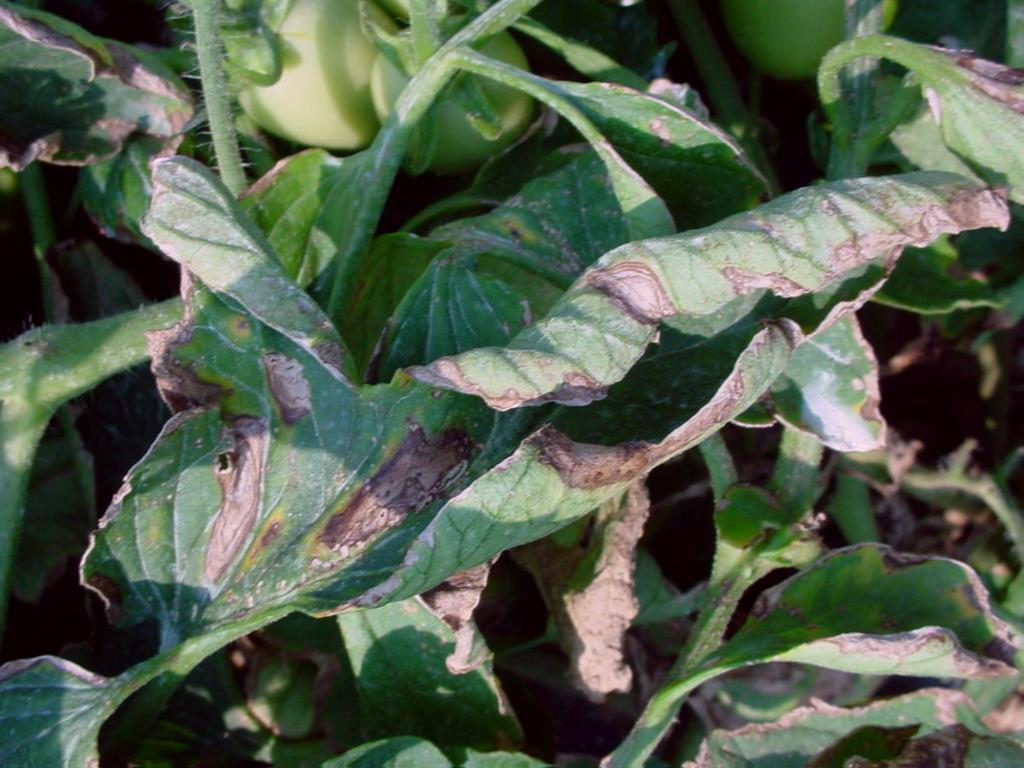Tomato leaf bacterial spot: (76, 128, 1008, 719)
